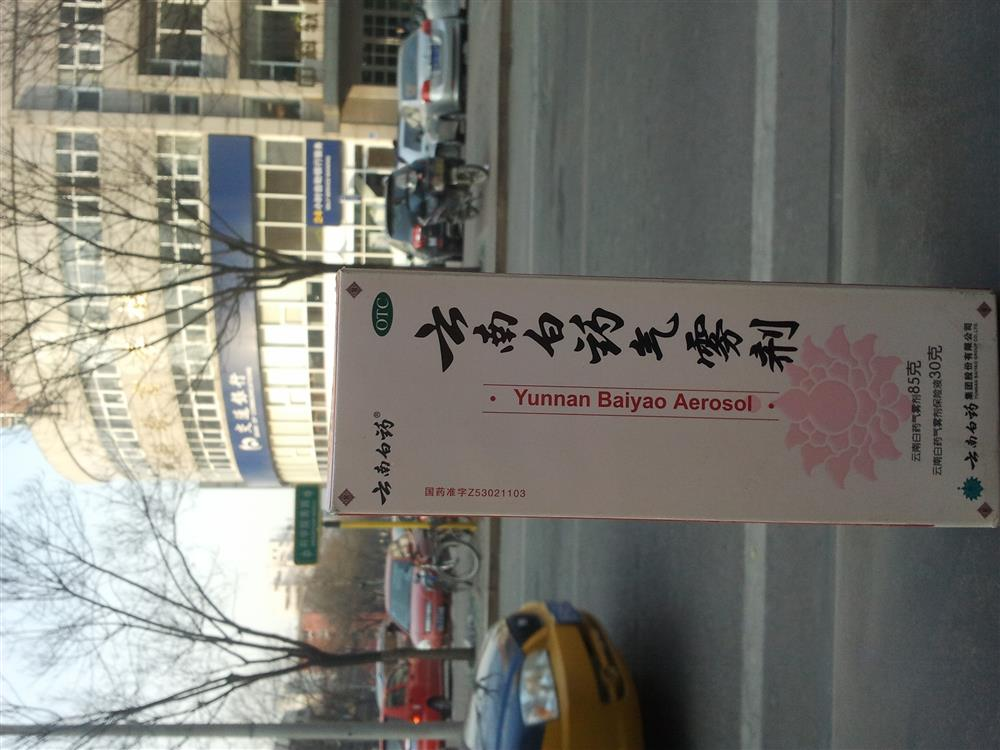Yunnan_Baiyao_Aerosol: (317, 237, 997, 540)
